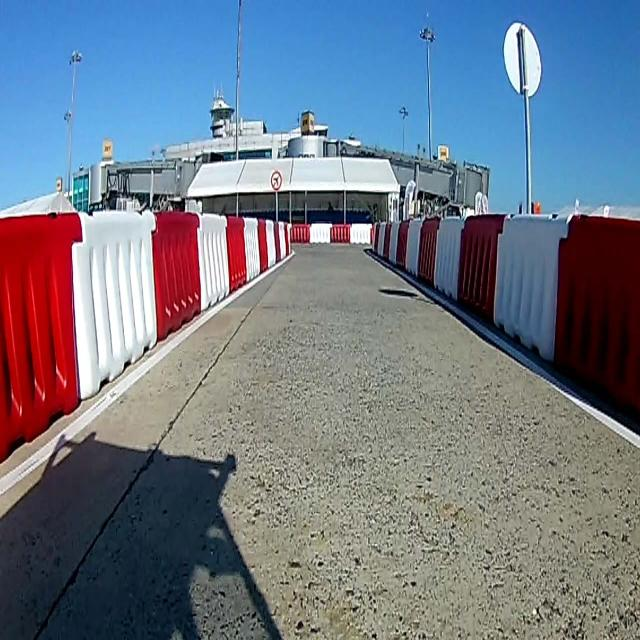soladonulmez: (270, 168, 282, 192)
